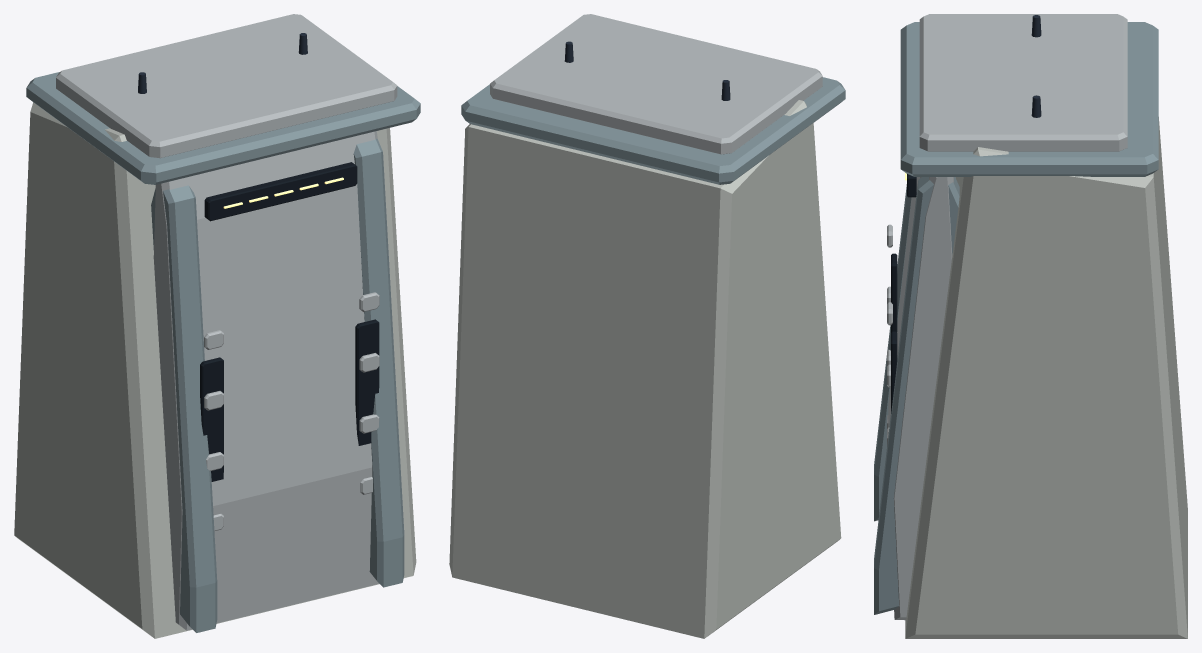
The model's file is canyon_bastion.glb.
The picture shows the model from 3 angles, left to right: view 1: azimuth 30°, elevation 25°; view 2: azimuth 150°, elevation 25°; view 3: azimuth 270°, elevation 25°; orthographic projection. The views are drawn at different scales.
Parts seen in each view (by area): view 1: canyon_bastion; view 2: canyon_bastion; view 3: canyon_bastion.
Part boxes in pixels (box(x1,y1,x2,y2)): canyon_bastion: box(14, 14, 420, 638); canyon_bastion: box(449, 14, 845, 638); canyon_bastion: box(874, 14, 1187, 638).
Size of the model in its own units: 5.32 by 9.19 by 5.04.
